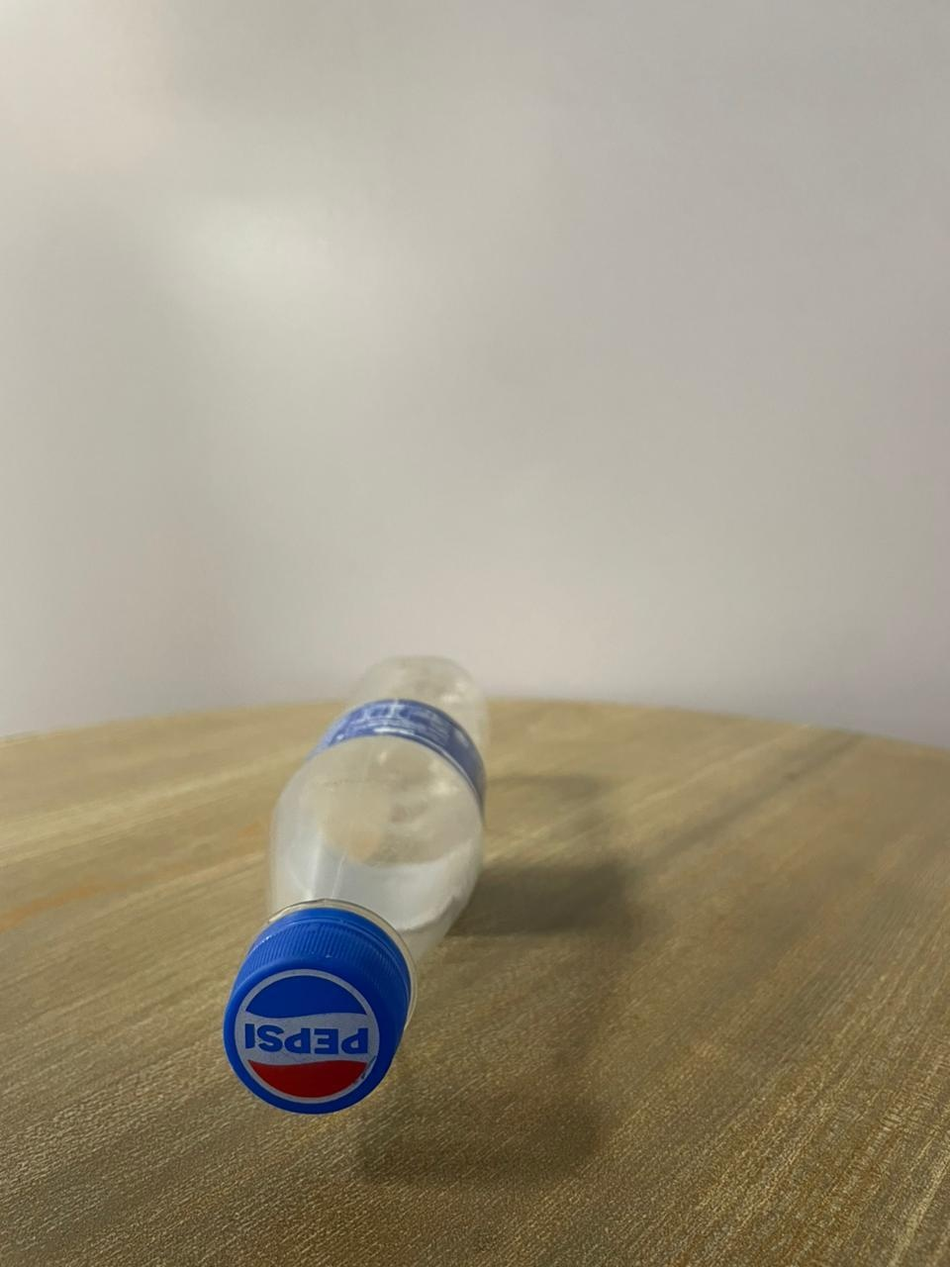Pepsi Bottle: (218, 639, 521, 1140), (218, 639, 519, 1124)
